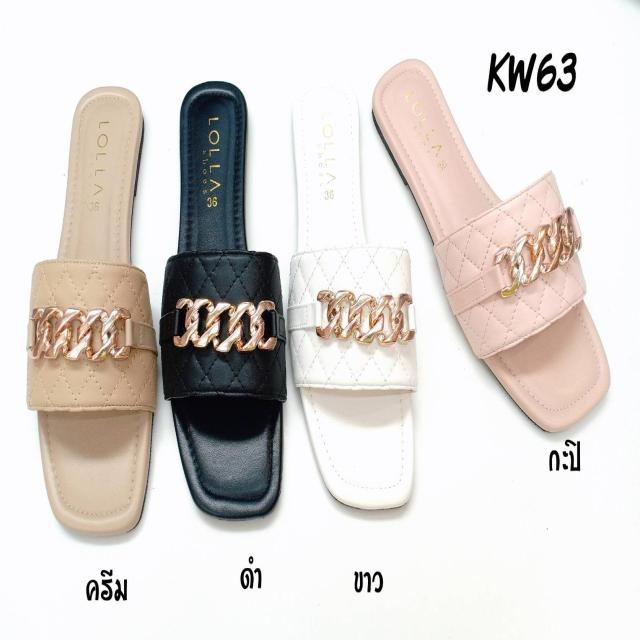black: (166, 81, 282, 517)
cream: (38, 88, 152, 539)
kapi: (374, 61, 606, 436)
white: (292, 92, 414, 509)
